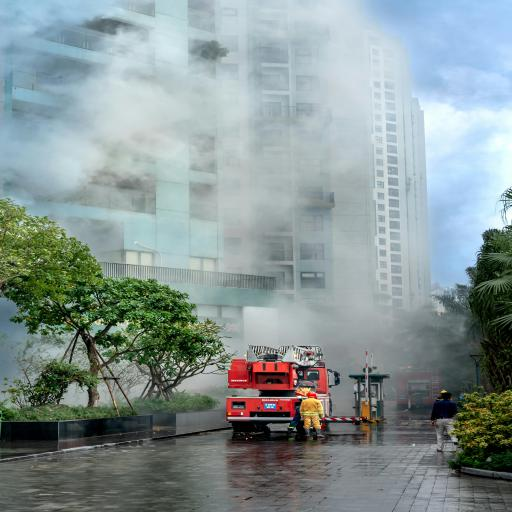buildingfire: (12, 24, 429, 312)
